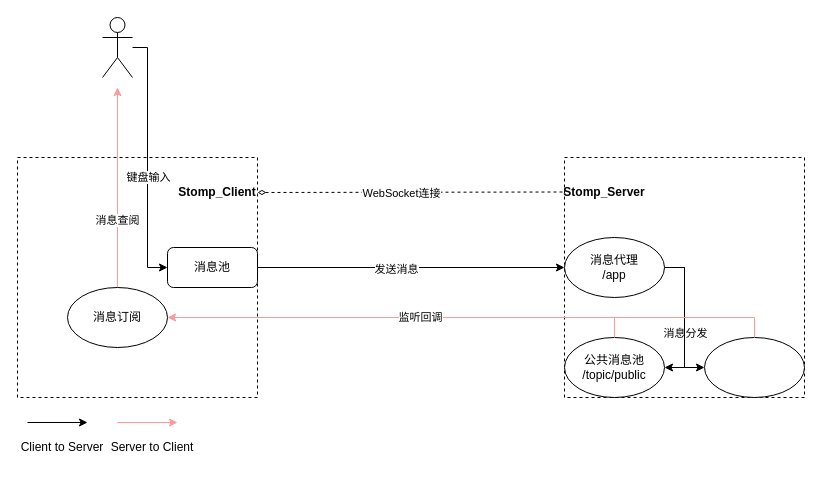
Some shapes in this 822 by 480 pixel diagram are drawn without their labels. The centre of each missing label's shape, as x and y in pixels:
Actor: point 117,47
私聊消息池 /user/{username}: point 754,367
